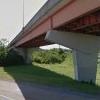Bridge: (11, 3, 91, 63)
